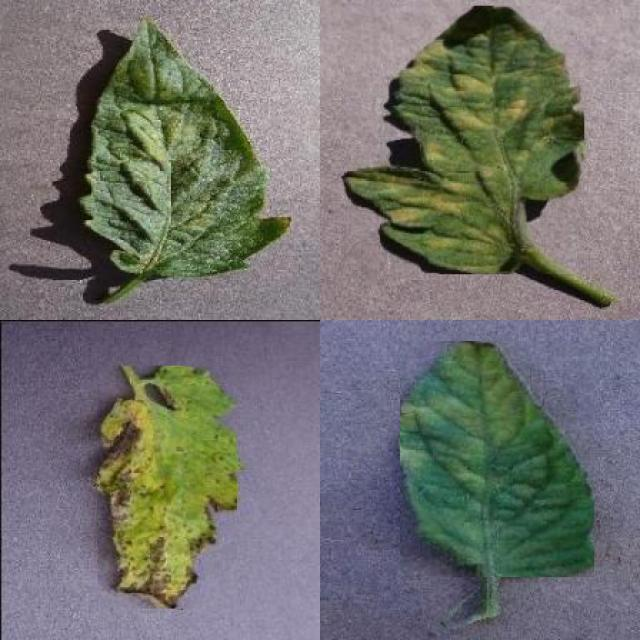Leaf Mold: (345, 6, 585, 274), (400, 340, 594, 577)
Septoria: (97, 366, 237, 608)
Spider Mites: (80, 17, 293, 283)
